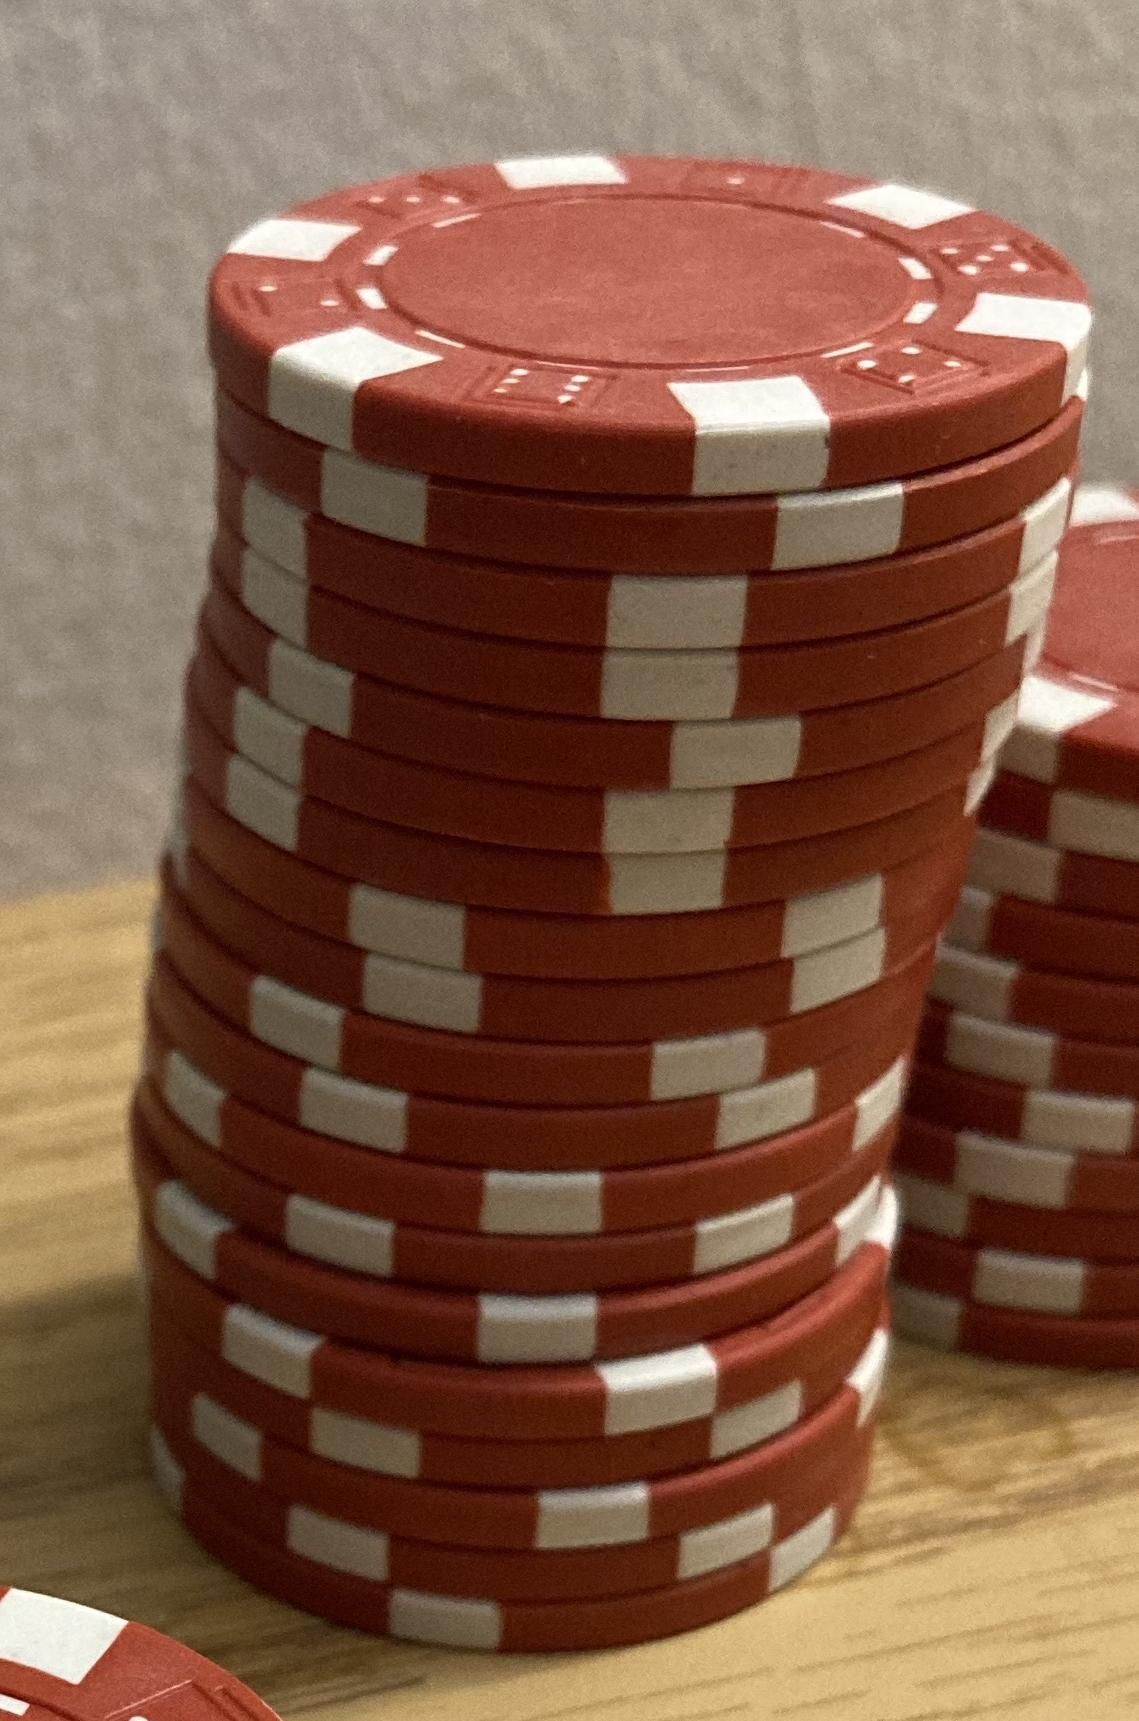Chip: (1, 1, 1139, 1721)
